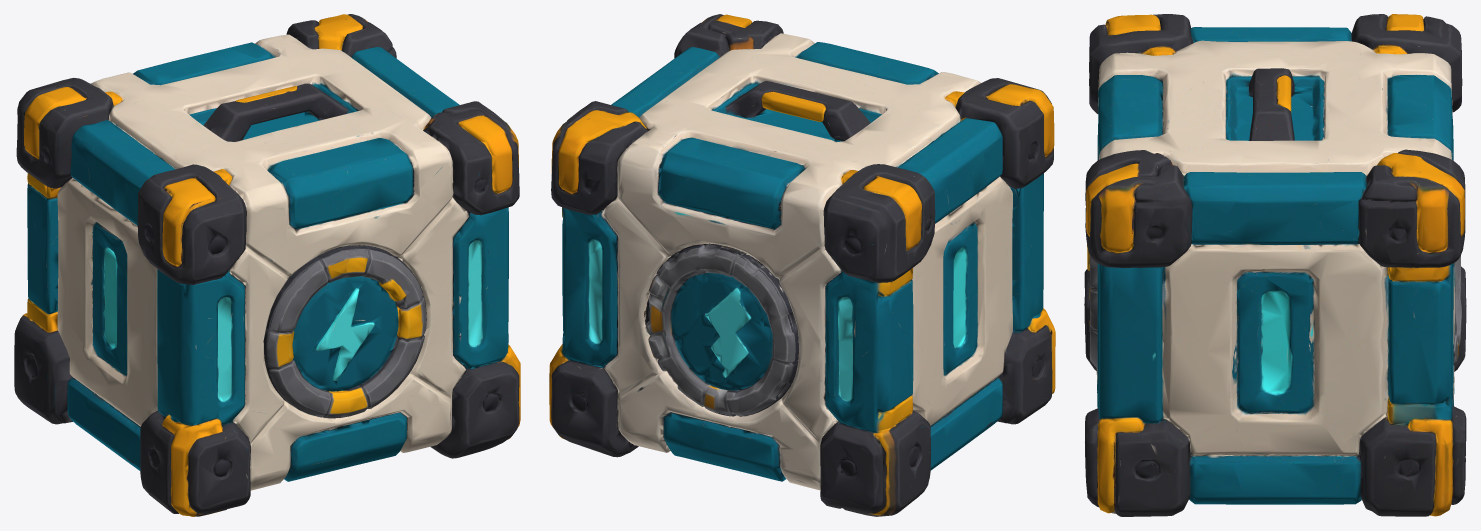
The model's file is core.glb.
The picture shows the model from 3 angles, left to right: view 1: azimuth 30°, elevation 25°; view 2: azimuth 150°, elevation 25°; view 3: azimuth 270°, elevation 25°; orthographic projection. The views are drawn at different scales.
Visible parts, largest first — view 1: core; view 2: core; view 3: core.
Part boxes in pixels (x1,y1,x2,y2): core: (14,14,520,516); core: (549,14,1055,516); core: (1084,14,1466,516).
Bounding box in the file's own units: 1.9 × 1.71 × 1.69.
Materials: 1 (1 with a texture image).
